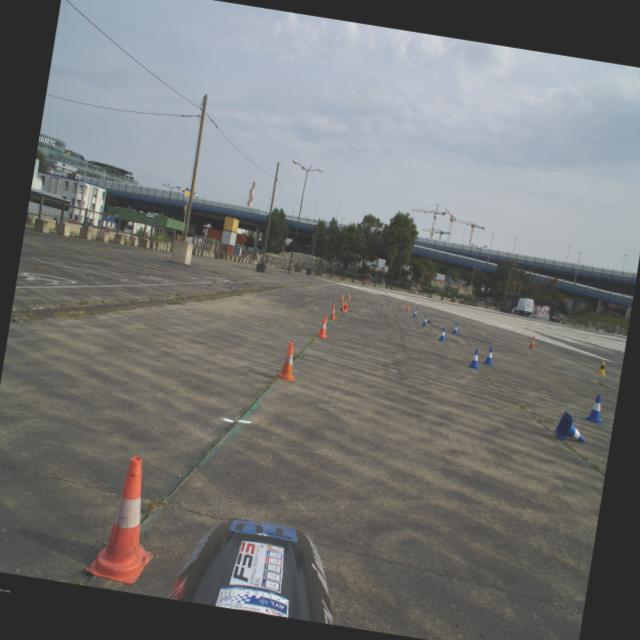blue_cone: (554, 411, 588, 444), (584, 393, 608, 425), (482, 346, 497, 366), (468, 348, 482, 369), (438, 327, 448, 342), (450, 324, 460, 336), (412, 308, 418, 318), (422, 316, 428, 326)
orange_cone: (84, 452, 168, 588), (276, 341, 300, 382), (316, 314, 331, 338), (329, 304, 338, 320), (528, 336, 536, 349), (339, 302, 348, 312), (339, 292, 345, 302), (346, 292, 352, 300), (406, 303, 410, 312)
yellow_cone: (596, 359, 608, 376)
